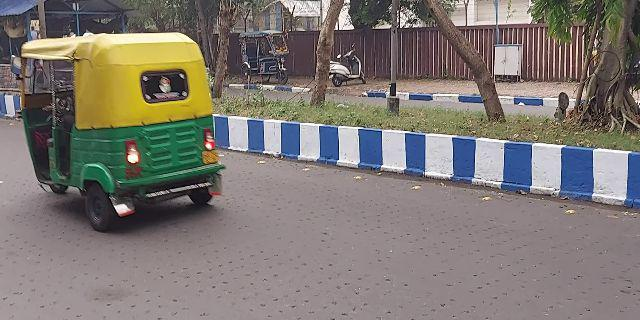Autorickshaw: (15, 37, 231, 230)
